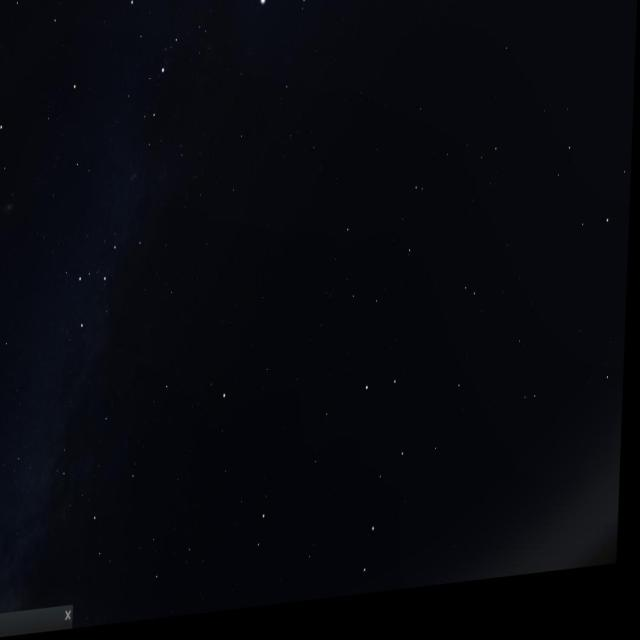ursa_major: (348, 358, 410, 606)
